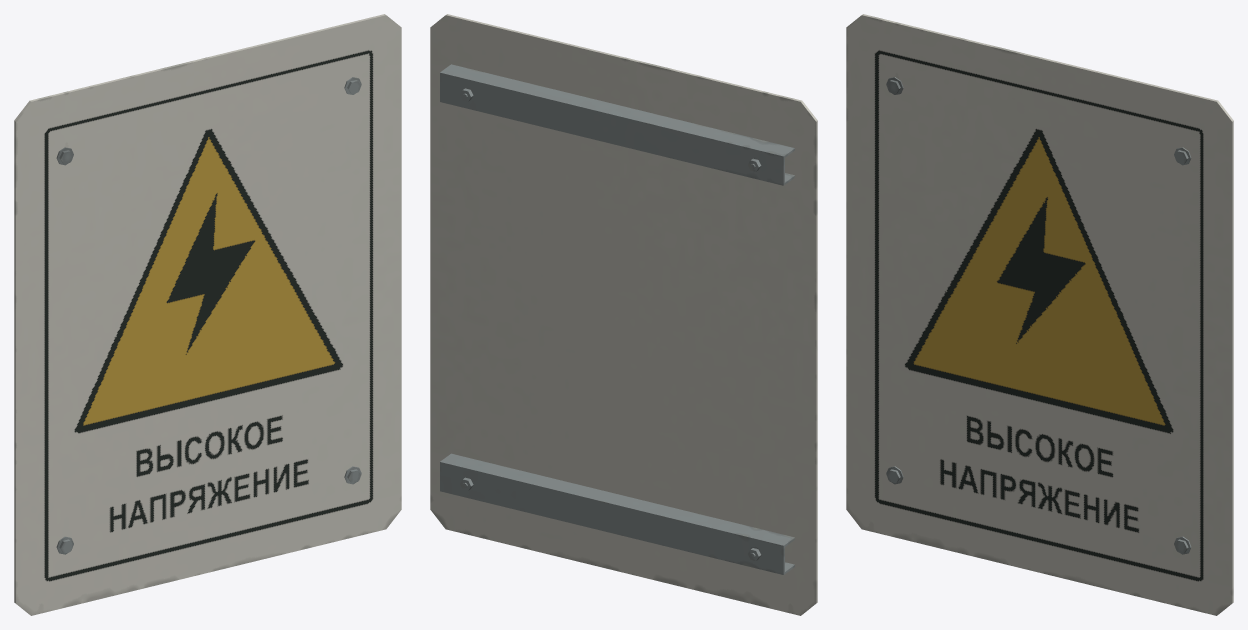
File: bunker_military_warning_sign_electric.glb
3 views of the same model, side by side, from view 1: azimuth 30°, elevation 25°; view 2: azimuth 150°, elevation 25°; view 3: azimuth 330°, elevation 25° (orthographic).
Parts seen in each view (by area): view 1: MilitaryWarningSign; view 2: MilitaryWarningSign; view 3: MilitaryWarningSign.
Boxes of the visible parts, x1,y1,x2,y2 form: MilitaryWarningSign: [14, 14, 401, 615]; MilitaryWarningSign: [430, 14, 817, 615]; MilitaryWarningSign: [846, 14, 1233, 615].
Bounding box in the file's own units: 0.55 × 0.7 × 0.0458.
1 material, 1 textured.
